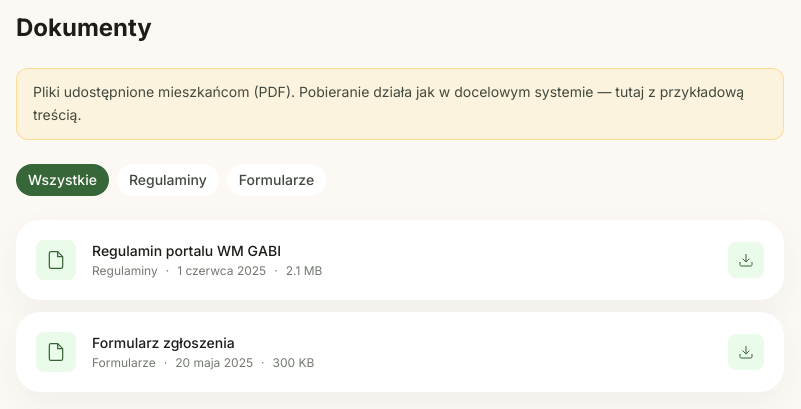
Test: Resident DocumentsPage › filtruje po kategorii
Expected: the heading "Regulamin portalu WM GABI" is shown, x1=92 y1=242 x2=281 y2=258
Click the button "Regulaminy": (168, 180) x1=117 y1=164 x2=219 y2=196
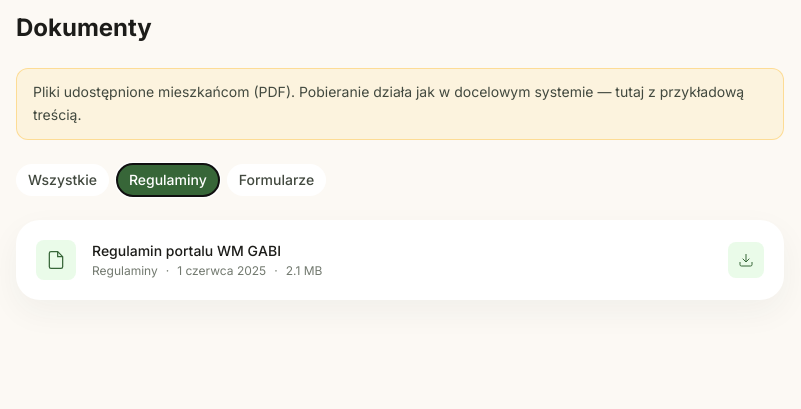
Expected: the heading "Regulamin portalu WM GABI" is shown, x1=92 y1=242 x2=281 y2=258
Now the heading "Formularz zgłoszenia" is gone
